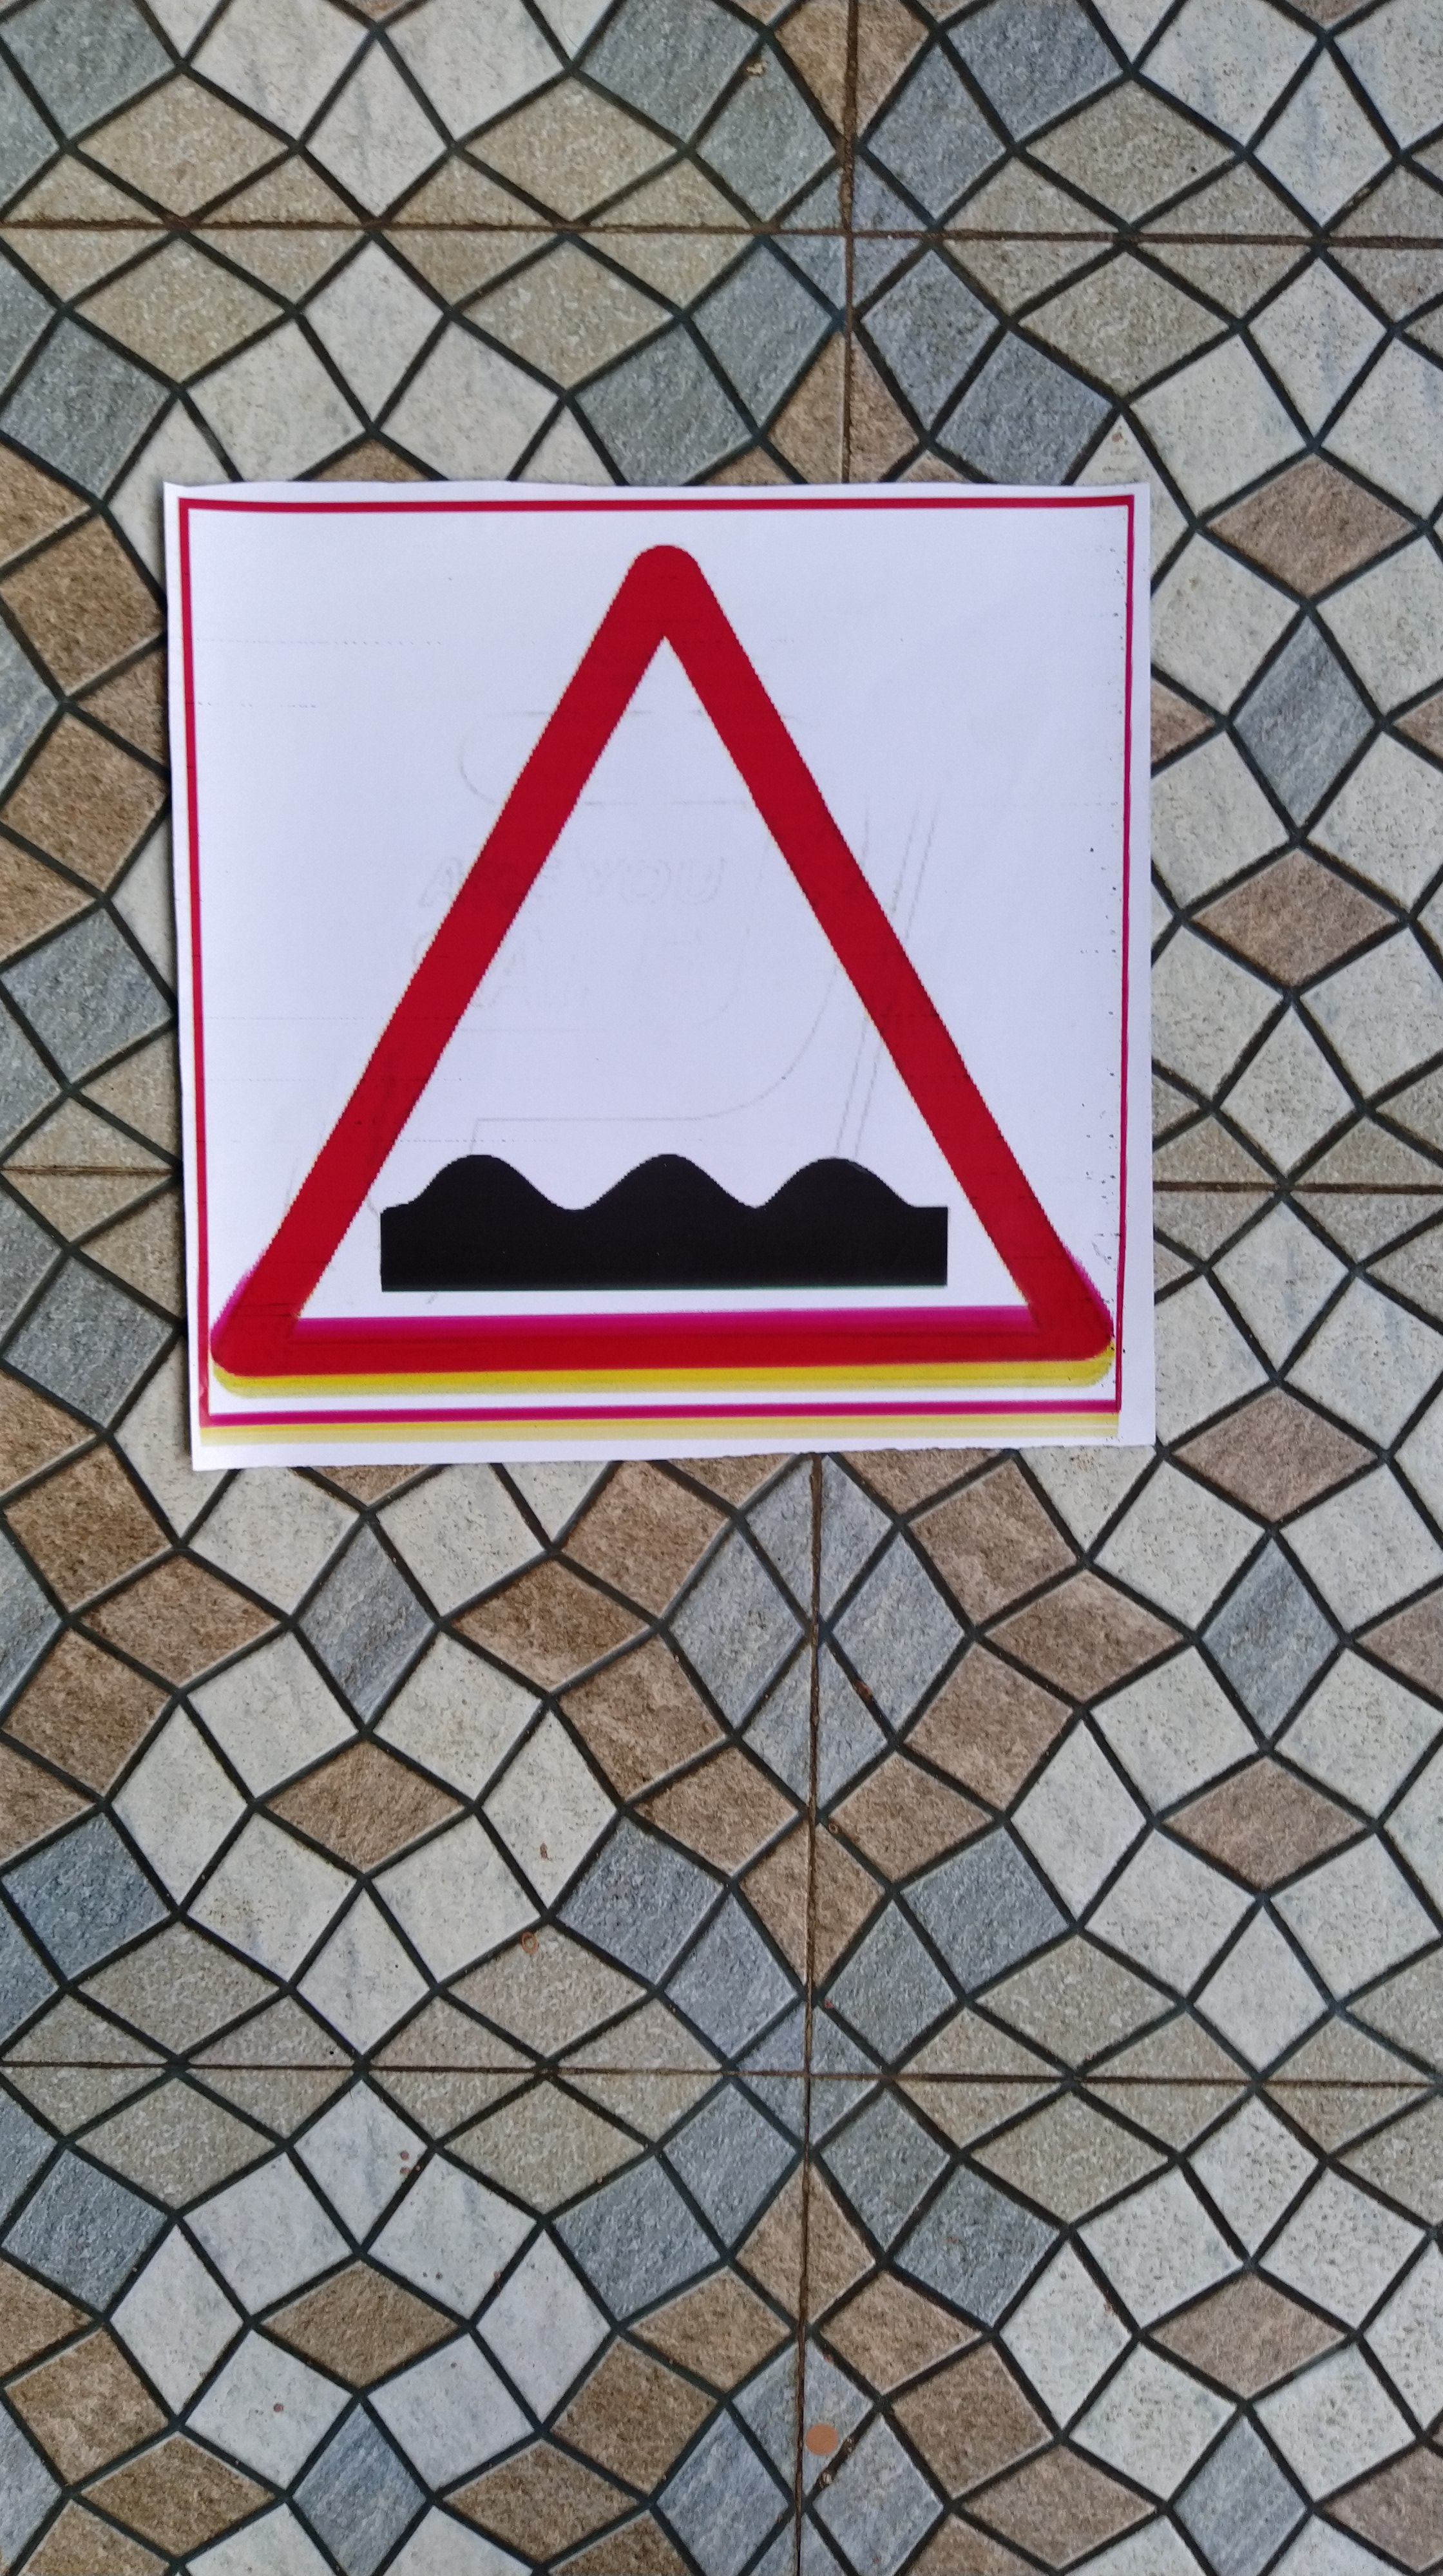speed breaker: (168, 485, 1138, 1447)
